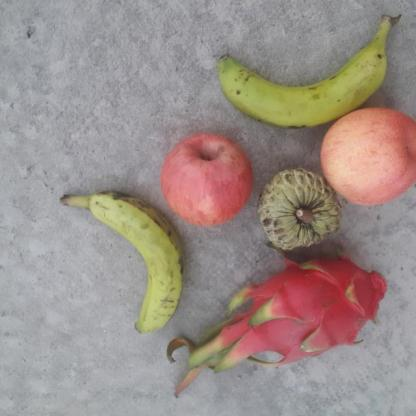annona: (257, 167, 344, 252)
apple: (57, 190, 181, 341), (320, 106, 416, 206), (162, 135, 255, 227)
banana: (218, 35, 388, 133)
pitaya: (242, 258, 388, 366)
